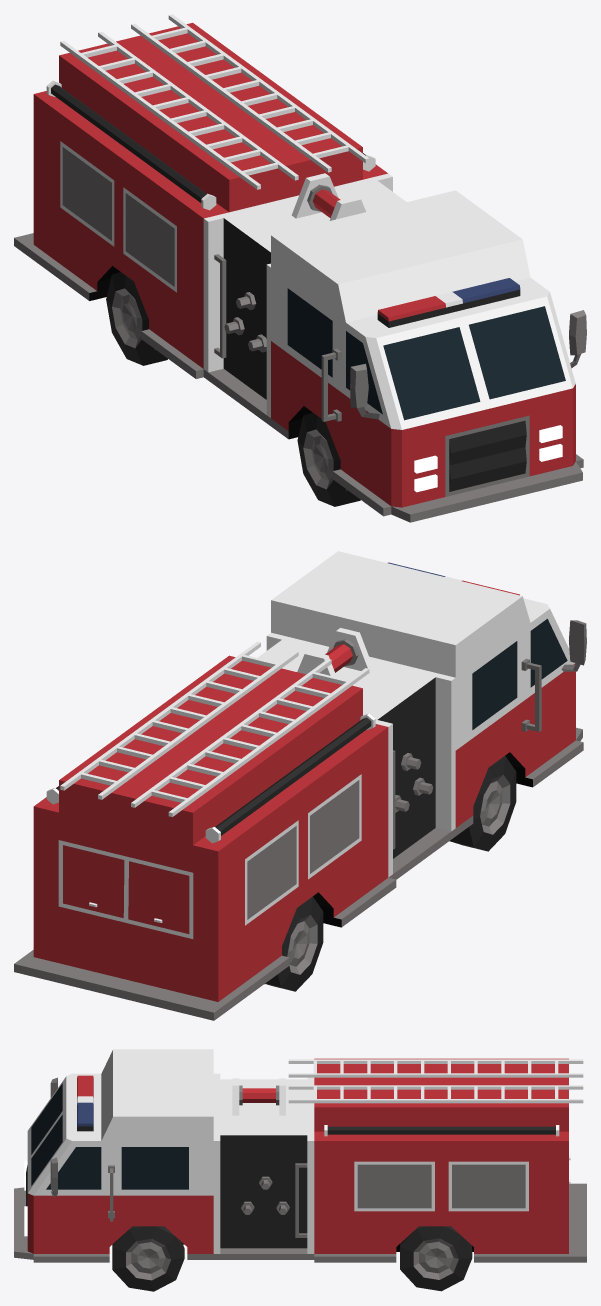
Rendered from firetruck.glb.
3 renders of one model, top to bottom at view 1: azimuth 30°, elevation 25°; view 2: azimuth 150°, elevation 25°; view 3: azimuth 270°, elevation 25°, orthographic. The views are drawn at different scales.
Visible parts, largest first — view 1: firetruck-base, firetruckwheel_FR, firetruck-wheel_BR; view 2: firetruck-base, firetruckwheel_FR, firetruck-wheel_BR; view 3: firetruck-base, firetruck-wheel_FL, firetruck-wheel_BL.
Part boxes in pixels (x1=…): firetruck-base: x1=14, y1=14, x2=586, y2=522; firetruckwheel_FR: x1=297, y1=412, x2=360, y2=506; firetruck-wheel_BR: x1=106, y1=272, x2=167, y2=365; firetruck-base: x1=14, y1=551, x2=586, y2=1020; firetruckwheel_FR: x1=449, y1=756, x2=516, y2=851; firetruck-wheel_BR: x1=264, y1=896, x2=323, y2=991; firetruck-base: x1=14, y1=1049, x2=586, y2=1262; firetruck-wheel_FL: x1=112, y1=1226, x2=184, y2=1291; firetruck-wheel_BL: x1=400, y1=1226, x2=472, y2=1291.
Size of the model in its own units: 3.02 by 2.97 by 8.54.
1 material, 1 textured.
